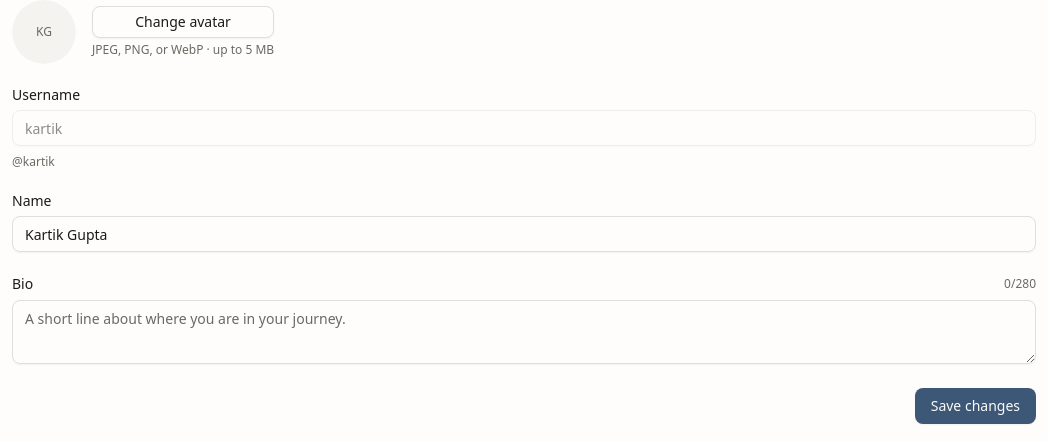
Test: SettingsForm › keeps the button disabled through a successful navigation
What coordinates should you click on to do the following:
click the button "Save changes"
I would click on:
 (975, 406)
Its box is 915,388 -> 1036,424.
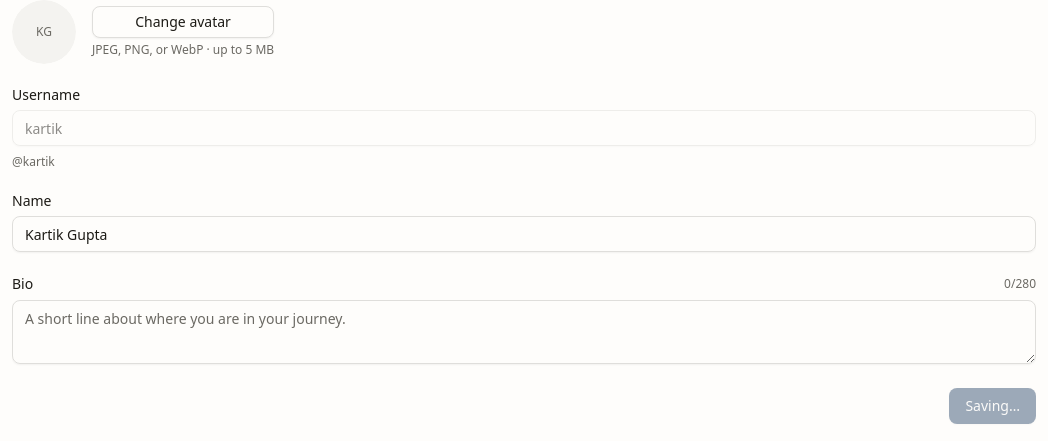
Expected: the button "Saving…" is disabled, 949,388 -> 1036,424
